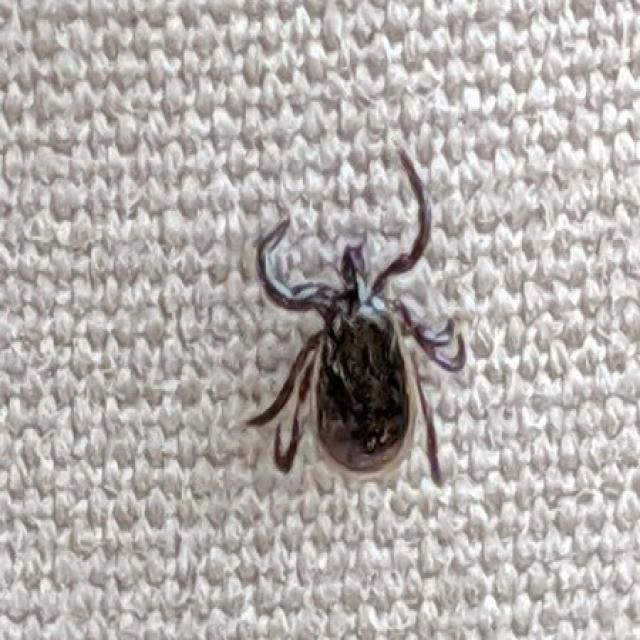Ixodes Ricinus-M: (246, 149, 475, 491)
